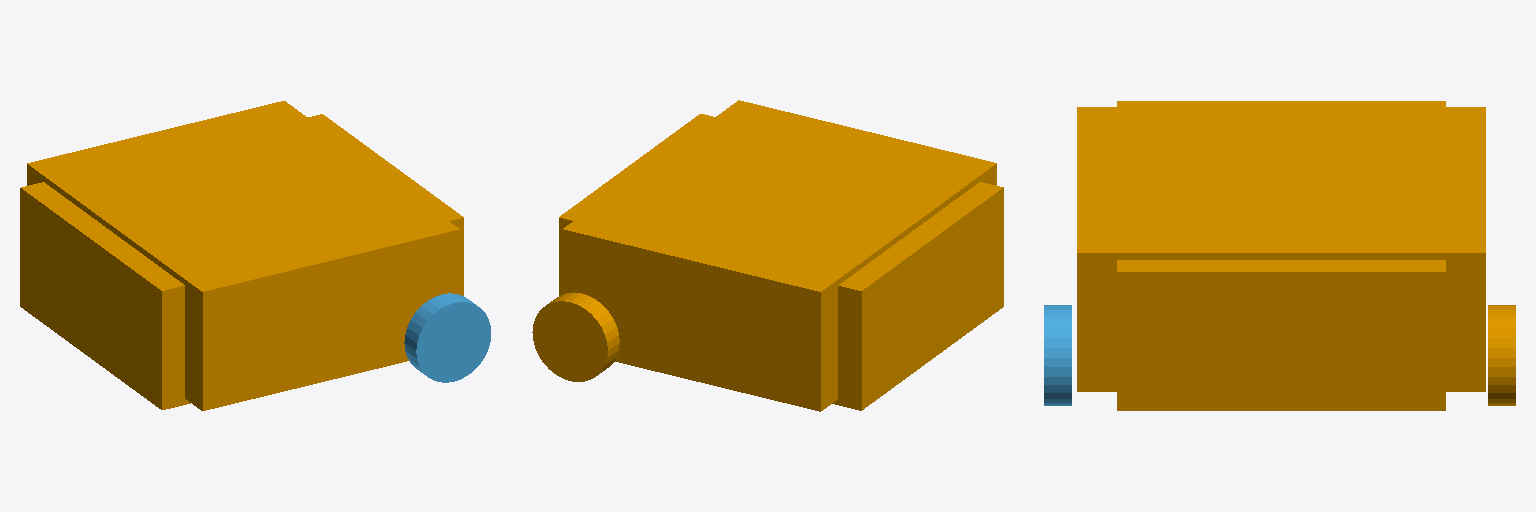
The robot description file, URDF, robot "[local-path]/webots_ros2/src/my_package/resource/TurtleBot3Waffl":
<?xml version="1.0"?>
<robot name="[local-path]/webots_ros2/src/my_package/resource/TurtleBot3Waffle.urdf" xmlns:xacro="http://ros.org/wiki/xacro">
  <webots>
    <!-- <plugin type="my_package.my_robot_driver.MyRobotDriver" /> -->
    <plugin type="my_package.my_turcobot_driver.MyRobotDriver" />
  </webots>
  <link name="base_link">
    <visual>
      <origin xyz="-0.095 -0.064 0.065" rpy="0 0 0"/>
      <geometry>
        <box size="0.226 0.267 0.1"/>
      </geometry>
    </visual>
    <collision>
      <origin xyz="-0.095 -0.064 0.065" rpy="0 0 0"/>
      <geometry>
        <box size="0.226 0.267 0.1"/>
      </geometry>
    </collision>
    <visual>
      <origin xyz="-0.096 -0.064 0.06" rpy="0 0 0"/>
      <geometry>
        <box size="0.265 0.215 0.1"/>
      </geometry>
    </visual>
    <collision>
      <origin xyz="-0.096 -0.064 0.06" rpy="0 0 0"/>
      <geometry>
        <box size="0.265 0.215 0.1"/>
      </geometry>
    </collision>
  </link>
  <link name="emitter">
  </link>
  <joint name="base_link_emitter_joint" type="fixed">
    <parent link="base_link"/>
    <child link="emitter"/>
    <origin xyz="0 0 0" rpy="0 0 0"/>
  </joint>
  <link name="receiver">
  </link>
  <joint name="base_link_receiver_joint" type="fixed">
    <parent link="base_link"/>
    <child link="receiver"/>
    <origin xyz="0 0 0" rpy="0 0 0"/>
  </joint>
  <link name="camera_right">
  </link>
  <joint name="base_link_camera_right_joint" type="fixed">
    <parent link="base_link"/>
    <child link="camera_right"/>
    <origin xyz="-0.225 -0.093 0.05" rpy="-1.570796 0 1.569204"/>
  </joint>
  <link name="camera_left">
  </link>
  <joint name="base_link_camera_left_joint" type="fixed">
    <parent link="base_link"/>
    <child link="camera_left"/>
    <origin xyz="-0.225 -0.035 0.05" rpy="-1.570796 0 1.569204"/>
  </joint>
  <link name="compass">
  </link>
  <joint name="base_link_compass_joint" type="fixed">
    <parent link="base_link"/>
    <child link="compass"/>
    <origin xyz="-0.032 0 0.078" rpy="0 0 0"/>
  </joint>
  <link name="gyro">
  </link>
  <joint name="base_link_gyro_joint" type="fixed">
    <parent link="base_link"/>
    <child link="gyro"/>
    <origin xyz="-0.032 0 0.078" rpy="0 0 0"/>
  </joint>
  <link name="accelerometer">
  </link>
  <joint name="base_link_accelerometer_joint" type="fixed">
    <parent link="base_link"/>
    <child link="accelerometer"/>
    <origin xyz="-0.032 0 0.078" rpy="0 0 0"/>
  </joint>
  <joint name="left_wheel_motor" type="continuous">
    <parent link="base_link"/>
    <child link="left_wheel"/>
    <axis xyz="-0.000003 -1 0.000003"/>
    <limit effort="10" velocity="6.67"/>
    <origin xyz="0 0.08 0.033" rpy="-0.527129 -1.57079 -2.614461"/>
  </joint>
  <link name="left_wheel">
    <visual>
      <origin xyz="0.000033 0 0.000001" rpy="-1.570796 0 0"/>
      <geometry>
        <cylinder radius="0.033" length="0.018"/>
      </geometry>
    </visual>
    <collision>
      <origin xyz="0.000033 0 0.000001" rpy="-1.570796 0 0"/>
      <geometry>
        <cylinder radius="0.033" length="0.018"/>
      </geometry>
    </collision>
  </link>
  <joint name="right_wheel_motor" type="continuous">
    <parent link="base_link"/>
    <child link="right_wheel"/>
    <axis xyz="0.000002 1 0"/>
    <limit effort="10" velocity="6.67"/>
    <origin xyz="0.000033 -0.08 0.033001" rpy="-1.370641 -1.570794 1.370641"/>
  </joint>
  <link name="right_wheel">
    <visual>
      <origin xyz="0.000014 -0.13 -0.000001" rpy="-1.570796 0 0"/>
      <geometry>
        <cylinder radius="0.033" length="0.018"/>
      </geometry>
    </visual>
    <collision>
      <origin xyz="0.000014 -0.13 -0.000001" rpy="-1.570796 0 0"/>
      <geometry>
        <cylinder radius="0.033" length="0.018"/>
      </geometry>
    </collision>
  </link>
</robot>

--- Facts derived from the render (not from the file) ---
The picture shows the robot from 3 angles, left to right: view 1: azimuth 30°, elevation 25°; view 2: azimuth 150°, elevation 25°; view 3: azimuth 270°, elevation 25°; orthographic projection.
Robot: [local-path]/webots_ros2/src/my_package/resource/TurtleBot3Waffl — 10 links, 9 joints (2 continuous, 7 fixed); root link base_link; default pose: every joint at zero.
Links seen in each view (by area): view 1: base_link, right_wheel; view 2: base_link, left_wheel; view 3: base_link, left_wheel, right_wheel.
Link boxes in pixels (x1=…): base_link: x1=20, y1=101, x2=463, y2=410; right_wheel: x1=404, y1=293, x2=490, y2=382; base_link: x1=559, y1=100, x2=1003, y2=411; left_wheel: x1=532, y1=292, x2=619, y2=381; base_link: x1=1077, y1=101, x2=1485, y2=410; left_wheel: x1=1488, y1=305, x2=1515, y2=405; right_wheel: x1=1044, y1=305, x2=1071, y2=405.
Bounding box of the posed robot: 0.265 × 0.308 × 0.115 m (x, y, z).
Geometry: primitives only (box / cylinder / sphere), no mesh files.
